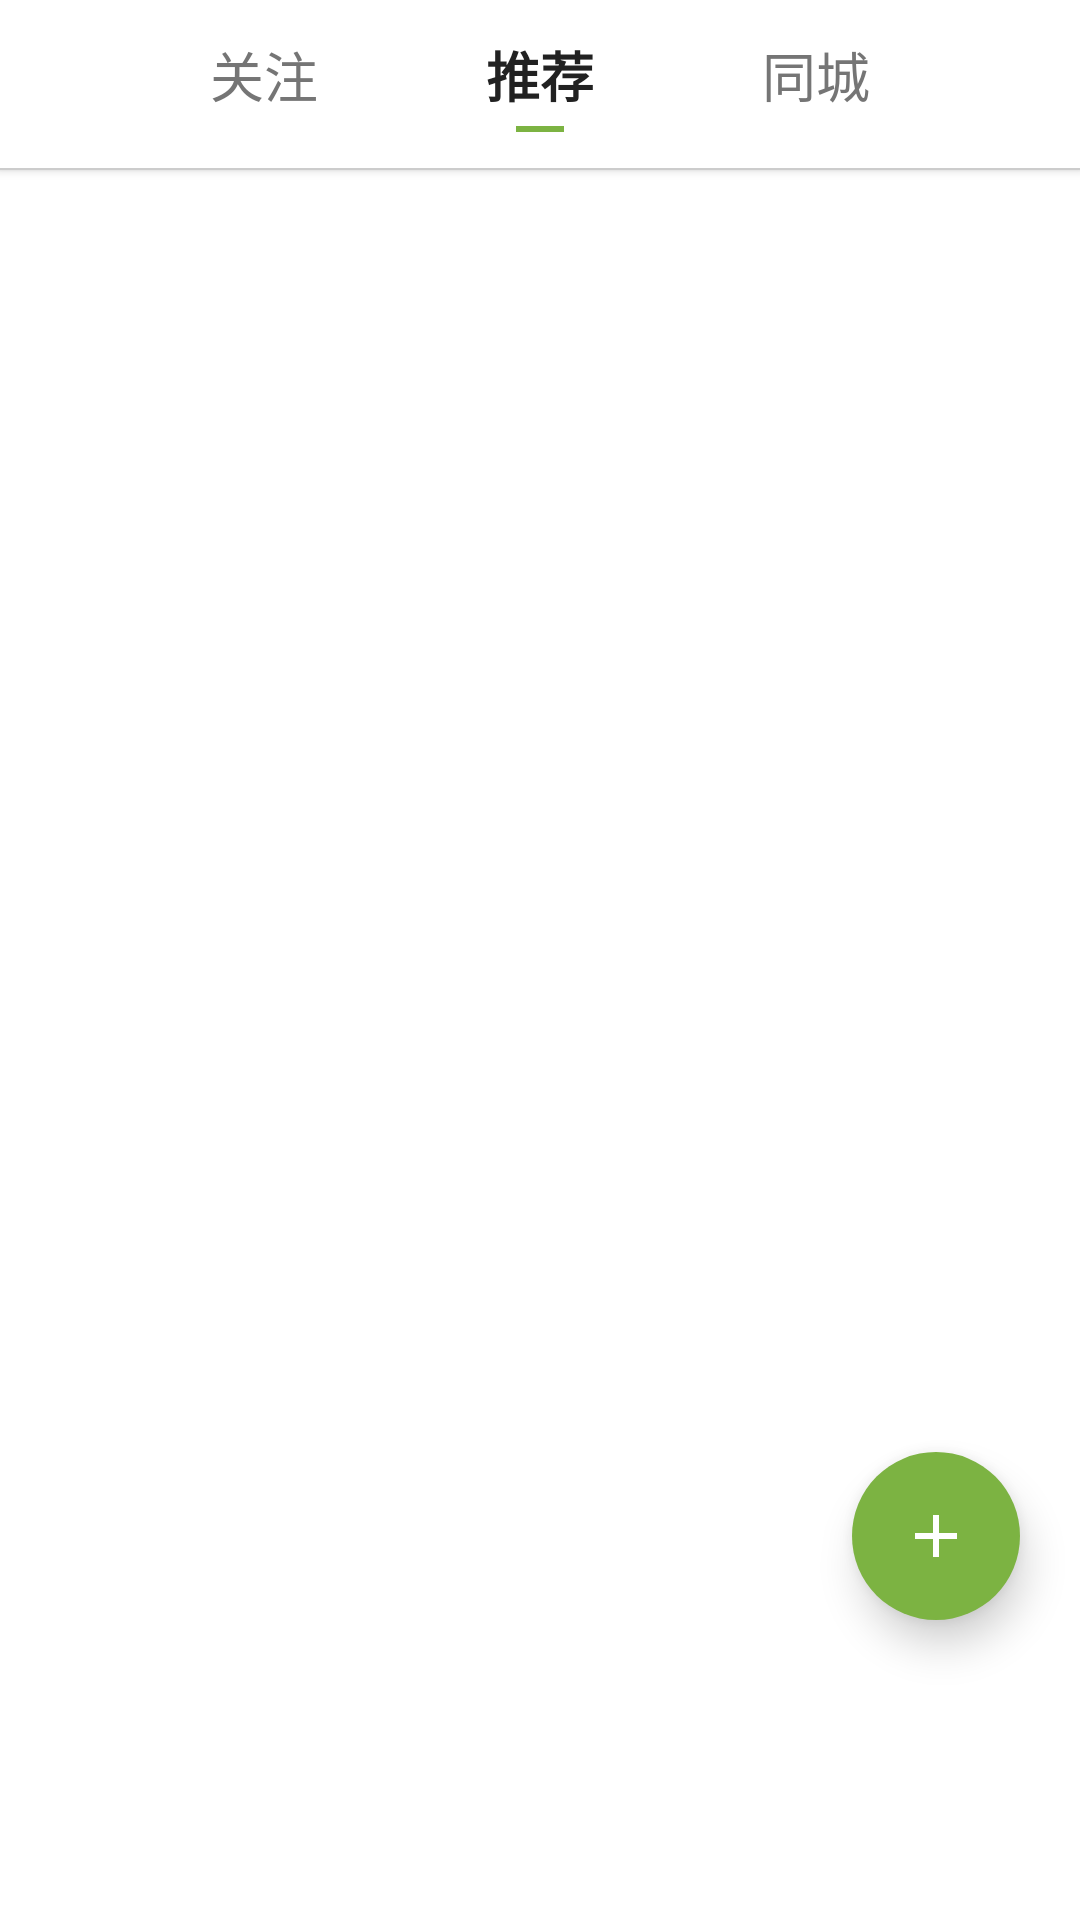

Icons on this 1080px x 1920px Android screen, each with its box as [left=x1, top=y1, right=x2, bottom=y2]:
发布: [left=852, top=1452, right=1020, bottom=1620]
